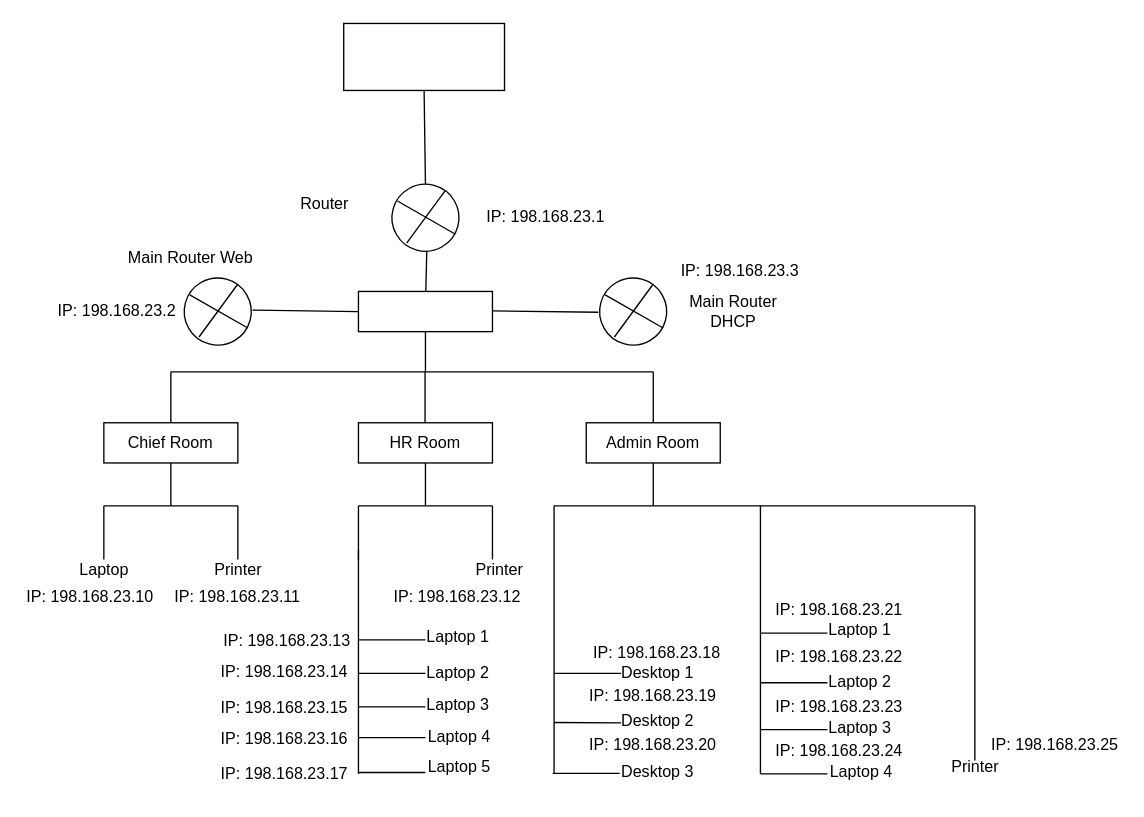
The diagram is 1144 pixels wide and 817 high, and some of its shapes have lost their labels. The centre of each missing label's shape, as x and y in pixels:
"Central Switch" goes at point (424, 311).
"Internet Provider Company" goes at point (423, 56).
